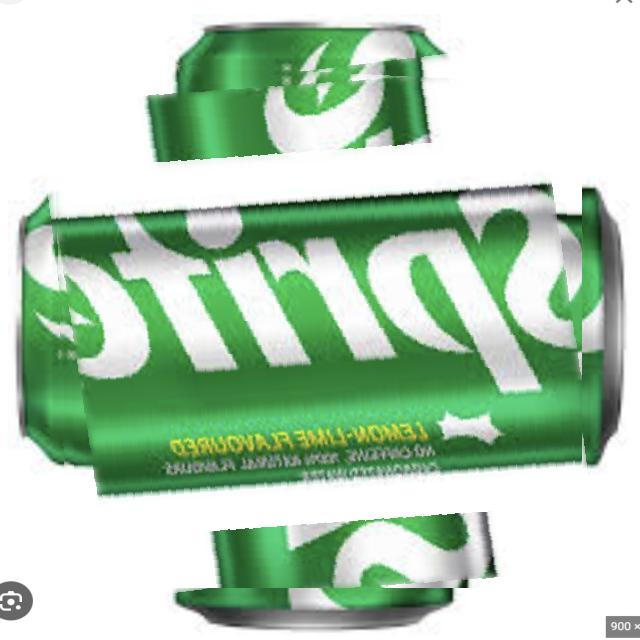recyclable: (52, 58, 582, 588)
